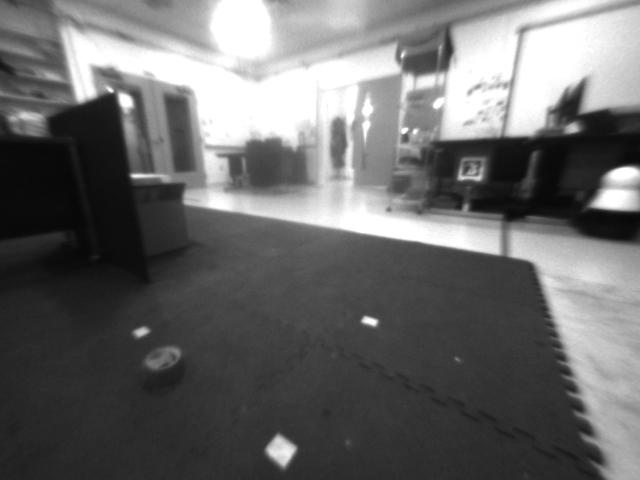dogtoy: (123, 343, 201, 389)
